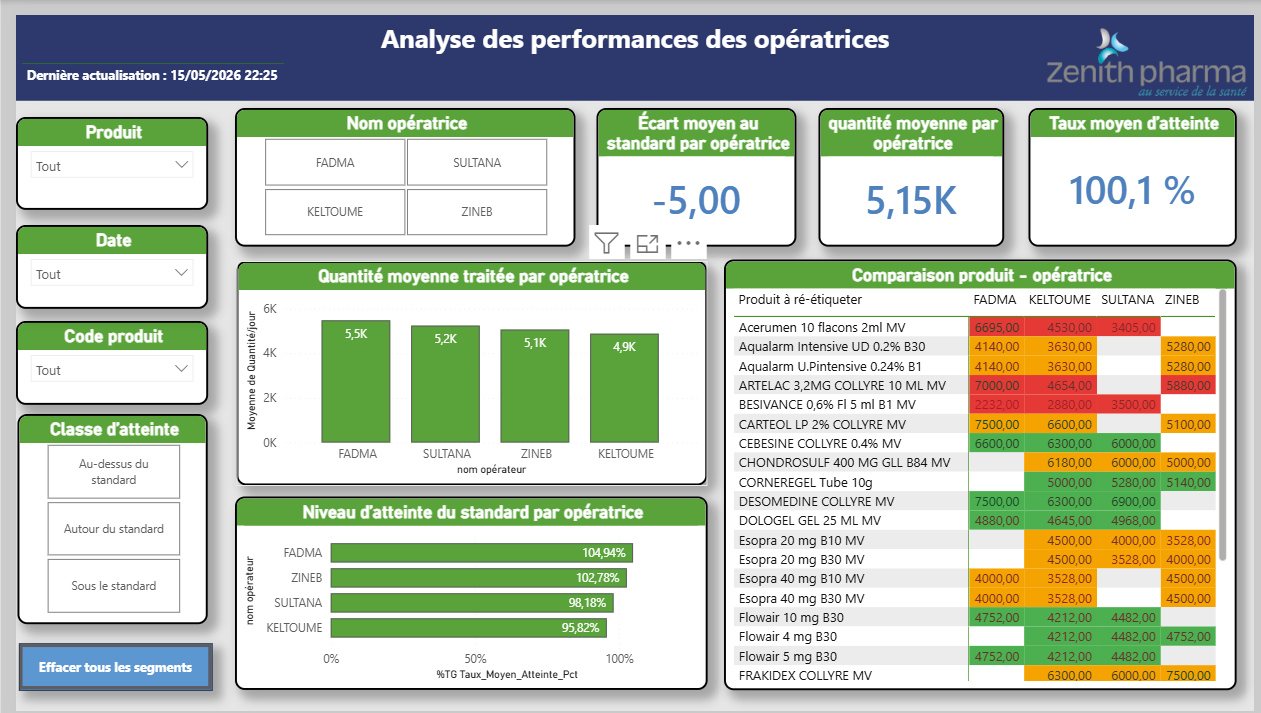

The page's visual inventory and layout, read from the dashboard file:
{"tool":"powerbi","page":{"name":"ANALYSE DES OPÉRATRICES","canvas":[1280,720],"ordinal":2},"visuals":[{"type":"textbox","box":[0,0,1280,88.3],"z":0},{"type":"cardVisual","title":"Écart moyen au standard par opératrice","fields":{"Data":["Base_enrichie.Ecart_Moyen_Operatrice"]},"box":[600,96.7,206.7,143.3],"z":1000},{"type":"image","box":[1059.3,12.4,220.2,76],"z":2000},{"type":"cardVisual","title":"quantité moyenne par opératrice","fields":{"Data":["Avg(Base_enrichie.Quantité/jour)"]},"box":[830,96.7,191.7,143.3],"z":3000},{"type":"cardVisual","title":"Taux moyen d’atteinte","fields":{"Data":["Base_enrichie.Taux_Moyen_Atteinte_Pct"]},"box":[1046.7,96.7,215,143.3],"z":4000},{"type":"slicer","title":"Nom opératrice","fields":{"Values":["Base_enrichie.nom opérateur"]},"box":[226.7,96.7,351.7,143.3],"z":5000},{"type":"slicer","title":"Produit","fields":{"Values":["Base_enrichie.Produit à ré-étiqueter"]},"box":[0,105.7,198.6,95.7],"z":6000},{"type":"actionButton","box":[3.3,650,200,48.3],"z":7000},{"type":"clusteredColumnChart","title":"Quantité moyenne traitée par opératrice","fields":{"Category":["Base_enrichie.nom opérateur"],"Y":["Avg(Base_enrichie.Quantité/jour)"]},"box":[228.3,255,486.7,231.7],"z":8000},{"type":"slicer","title":"Code produit","fields":{"Values":["Base_enrichie.Code produit"]},"box":[0,316.4,198.5,86.8],"z":9000},{"type":"slicer","title":"Date","fields":{"Values":["Base_enrichie.DATE"]},"box":[0,216.7,198.3,86.7],"z":10000},{"type":"slicer","title":"Classe d’atteinte","fields":{"Values":["Base_enrichie.Classe_atteinte"]},"box":[1.6,412.5,197,217.1],"z":11000},{"type":"pivotTable","title":"Comparaison produit - opératrice","fields":{"Values":["Avg(Base_enrichie.Quantité/jour)"],"Rows":["Base_enrichie.Produit à ré-étiqueter"],"Columns":["Base_enrichie.nom opérateur"]},"box":[731.7,253.3,530,445],"z":12000},{"type":"clusteredBarChart","title":"Niveau d’atteinte du standard par opératrice","fields":{"Category":["Base_enrichie.nom opérateur"],"Y":["Base_enrichie.Taux_Moyen_Atteinte_Pct"]},"box":[226.7,498.3,488.3,200],"z":13000},{"type":"tableEx","fields":{"Values":["Base_enrichie.Texte_Mise_A_Jour"]},"box":[0,17.1,294.7,63.6],"z":14000}]}

Visuals, with their boxes in screenshot pixels (x1, y1, x2, y2), scaled from the page's 1280x720 canvas onto the 1261x713 screenshot:
textbox: {"left": 0, "top": 0, "right": 1260, "bottom": 87}
"Écart moyen au standard par opératrice" cardVisual: {"left": 591, "top": 96, "right": 795, "bottom": 238}
image: {"left": 1044, "top": 12, "right": 1260, "bottom": 88}
"quantité moyenne par opératrice" cardVisual: {"left": 818, "top": 96, "right": 1007, "bottom": 238}
"Taux moyen d’atteinte" cardVisual: {"left": 1031, "top": 96, "right": 1243, "bottom": 238}
"Nom opératrice" slicer: {"left": 223, "top": 96, "right": 570, "bottom": 238}
"Produit" slicer: {"left": 0, "top": 105, "right": 196, "bottom": 199}
actionButton: {"left": 3, "top": 644, "right": 200, "bottom": 692}
"Quantité moyenne traitée par opératrice" clusteredColumnChart: {"left": 225, "top": 253, "right": 704, "bottom": 482}
"Code produit" slicer: {"left": 0, "top": 313, "right": 196, "bottom": 399}
"Date" slicer: {"left": 0, "top": 215, "right": 195, "bottom": 300}
"Classe d’atteinte" slicer: {"left": 2, "top": 408, "right": 196, "bottom": 623}
"Comparaison produit - opératrice" pivotTable: {"left": 721, "top": 251, "right": 1243, "bottom": 692}
"Niveau d’atteinte du standard par opératrice" clusteredBarChart: {"left": 223, "top": 493, "right": 704, "bottom": 692}
tableEx - Base_enrichie.Texte_Mise_A_Jour: {"left": 0, "top": 17, "right": 290, "bottom": 80}
